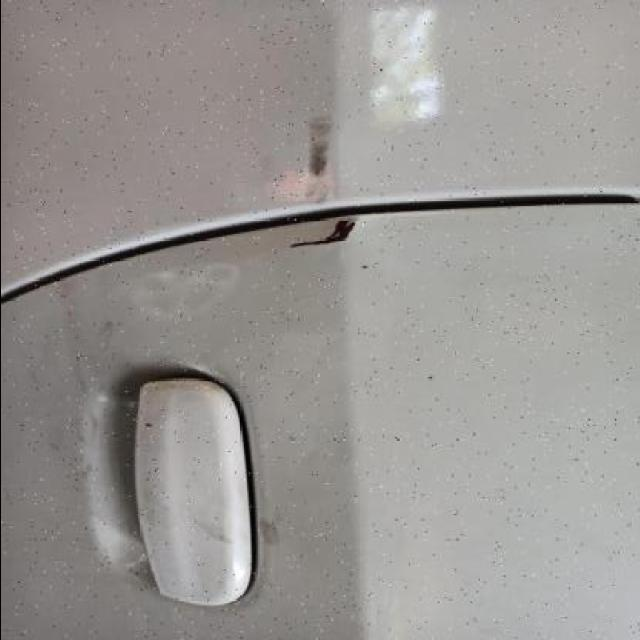doorouter-dent: (0, 203, 634, 640)
